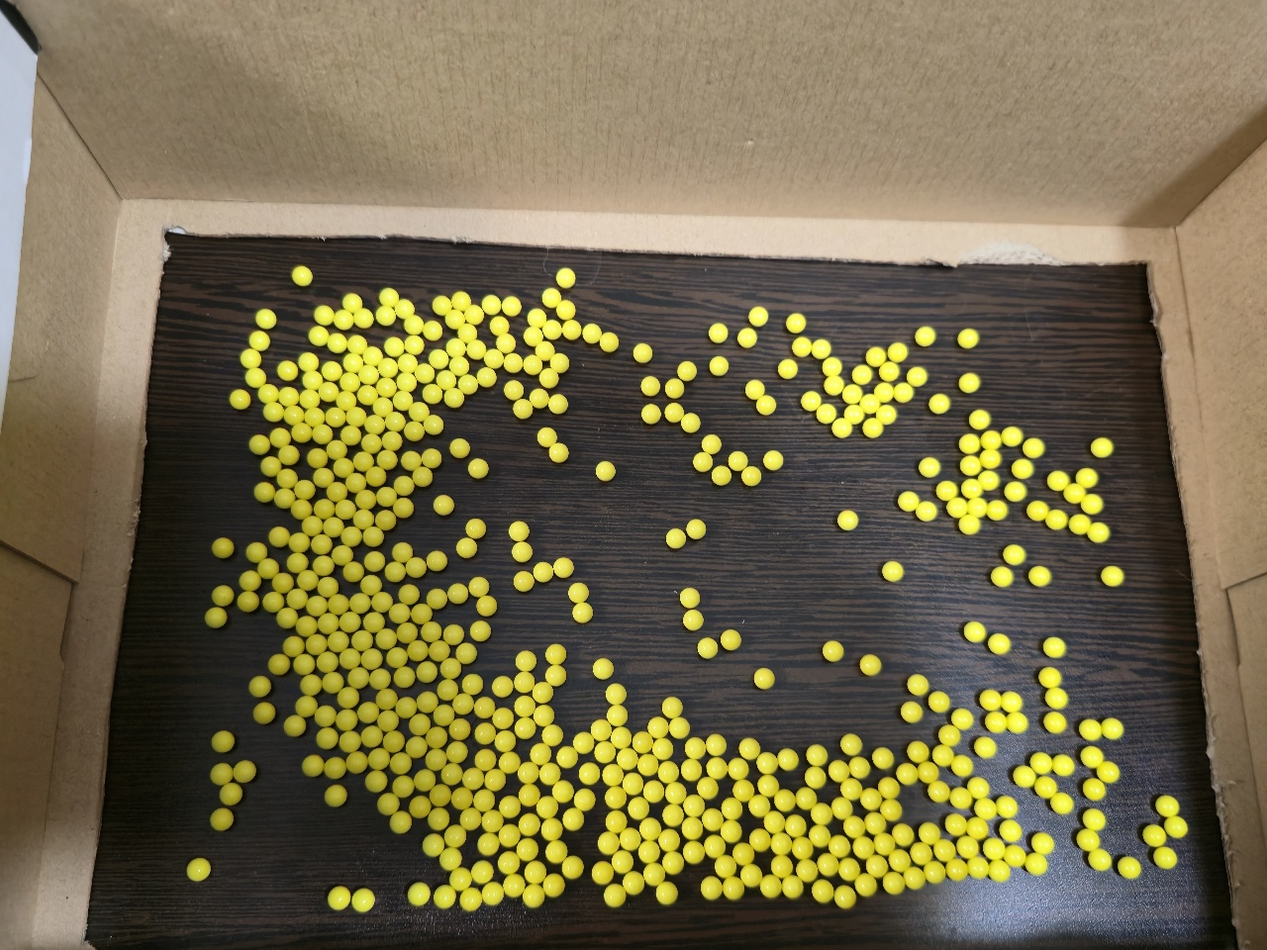yellow_bead: (865, 387, 888, 409), (837, 410, 859, 432), (979, 741, 992, 754), (413, 888, 425, 901), (192, 864, 205, 876), (1036, 837, 1049, 849), (1086, 751, 1099, 763), (1049, 716, 1061, 729), (956, 713, 969, 725), (1050, 693, 1063, 705), (487, 888, 499, 900), (444, 853, 456, 865), (988, 842, 1000, 854), (1084, 724, 1096, 736), (1005, 824, 1016, 837), (1088, 813, 1101, 824), (1048, 642, 1061, 653), (993, 638, 1006, 649), (1033, 571, 1046, 582), (334, 892, 345, 904), (1031, 858, 1042, 870), (428, 839, 439, 851), (1002, 801, 1013, 813), (688, 800, 700, 811), (955, 793, 966, 805), (973, 782, 985, 793), (1019, 771, 1030, 783), (584, 768, 595, 780), (663, 766, 674, 778), (957, 760, 968, 772), (877, 753, 889, 764), (622, 753, 633, 765), (744, 743, 755, 755), (657, 743, 668, 755), (690, 742, 701, 754), (990, 716, 1001, 728), (933, 697, 945, 708), (1044, 672, 1056, 683), (969, 626, 981, 637), (1009, 549, 1021, 560), (983, 475, 995, 486), (477, 866, 487, 879), (1161, 801, 1174, 811), (1056, 799, 1069, 809), (996, 572, 1009, 582), (439, 891, 450, 902), (643, 847, 654, 858), (834, 840, 845, 851), (449, 830, 460, 841), (644, 823, 655, 834), (836, 803, 847, 814), (670, 788, 681, 799), (937, 750, 948, 761), (812, 750, 823, 761), (600, 747, 611, 758), (845, 739, 856, 750), (578, 737, 589, 748), (520, 722, 531, 733), (612, 710, 623, 721), (520, 701, 531, 712), (611, 689, 622, 700), (497, 681, 508, 692), (913, 680, 924, 691), (467, 679, 478, 690), (888, 566, 899, 577), (921, 506, 932, 517), (1087, 499, 1098, 510), (965, 460, 976, 471), (912, 371, 923, 382), (661, 887, 671, 899), (617, 856, 627, 868), (603, 837, 613, 849), (524, 819, 536, 829), (668, 809, 678, 821), (479, 795, 489, 807), (648, 786, 658, 798), (544, 768, 554, 780), (833, 765, 843, 777), (855, 762, 865, 774), (762, 757, 772, 769), (712, 739, 722, 751), (944, 730, 954, 742), (906, 707, 918, 717), (1107, 571, 1119, 581), (1093, 527, 1105, 537), (1010, 487, 1022, 497), (941, 486, 953, 496), (1052, 476, 1064, 486), (1081, 473, 1093, 483), (1027, 443, 1039, 453), (1096, 442, 1108, 452), (974, 415, 986, 425), (409, 318, 419, 330), (509, 882, 520, 892), (888, 878, 898, 889), (455, 875, 465, 886), (939, 845, 949, 856), (962, 842, 973, 852), (625, 834, 635, 845), (950, 819, 960, 830), (769, 816, 779, 827), (490, 775, 500, 786), (608, 769, 618, 780), (446, 769, 457, 779), (523, 767, 533, 778), (1060, 760, 1070, 771), (547, 730, 557, 741), (596, 725, 607, 735), (1109, 723, 1119, 734), (674, 722, 684, 733), (653, 722, 663, 733), (320, 711, 331, 721), (422, 697, 433, 707), (537, 687, 547, 698), (759, 673, 769, 684), (550, 670, 560, 681), (865, 660, 876, 670), (322, 657, 333, 667), (366, 654, 377, 664), (903, 497, 914, 507), (1017, 464, 1028, 474), (924, 462, 935, 472), (964, 438, 974, 449), (1007, 431, 1018, 441), (881, 410, 892, 420), (934, 399, 945, 409), (806, 396, 817, 406), (398, 395, 408, 406), (847, 389, 858, 399), (829, 379, 839, 390), (964, 378, 975, 388), (857, 370, 868, 380), (884, 367, 895, 377), (304, 357, 314, 368), (893, 347, 904, 357), (254, 335, 265, 345), (963, 333, 974, 343), (381, 310, 391, 321), (357, 894, 369, 903), (609, 889, 618, 901), (628, 877, 637, 889), (1123, 862, 1132, 874), (503, 857, 512, 869), (483, 838, 492, 850), (897, 829, 906, 841), (634, 802, 643, 814), (686, 764, 695, 776), (712, 762, 721, 774), (562, 751, 571, 763), (536, 748, 545, 760), (1009, 697, 1018, 709), (964, 520, 976, 529), (400, 304, 409, 316), (706, 882, 714, 895), (996, 867, 1006, 877), (753, 801, 763, 811), (500, 736, 510, 746), (498, 713, 508, 723), (458, 699, 468, 709), (375, 674, 385, 684), (353, 673, 363, 683), (598, 664, 608, 674), (445, 663, 455, 673), (299, 659, 309, 669), (521, 656, 531, 666), (461, 648, 471, 658), (828, 646, 838, 656), (703, 643, 713, 653), (333, 636, 343, 646), (357, 635, 367, 645), (475, 625, 485, 635), (688, 615, 698, 625), (578, 608, 588, 618), (482, 601, 492, 611), (292, 594, 302, 604), (685, 593, 695, 603), (573, 588, 583, 598), (323, 582, 333, 592), (538, 567, 548, 577), (517, 547, 527, 557), (514, 526, 524, 536), (952, 503, 962, 513), (746, 471, 756, 481), (768, 455, 778, 465), (428, 389, 438, 399), (899, 388, 909, 398), (324, 387, 334, 397), (441, 375, 451, 385), (250, 373, 260, 383), (420, 368, 430, 378), (327, 366, 337, 376), (783, 364, 793, 374), (871, 352, 881, 362), (817, 344, 827, 354), (797, 341, 807, 351), (261, 314, 271, 324), (347, 298, 357, 308), (297, 271, 307, 281), (465, 895, 476, 904), (839, 891, 848, 902), (528, 891, 537, 902), (396, 816, 405, 827), (980, 806, 991, 815), (468, 774, 477, 785), (810, 772, 819, 783), (1035, 757, 1046, 766), (411, 742, 422, 751), (344, 736, 355, 745), (616, 732, 625, 743), (538, 710, 547, 721), (520, 677, 529, 688), (842, 516, 853, 525), (1032, 506, 1043, 515), (994, 505, 1003, 516), (966, 484, 977, 493), (986, 455, 997, 464), (363, 370, 374, 379), (828, 362, 837, 373), (454, 360, 463, 371), (451, 343, 460, 354), (817, 886, 825, 898), (530, 866, 538, 878), (1094, 854, 1102, 866), (1170, 822, 1182, 830), (702, 782, 710, 794), (902, 768, 910, 780), (1015, 716, 1023, 728), (1160, 854, 1170, 863), (465, 814, 474, 824), (541, 802, 550, 812), (504, 802, 514, 811), (384, 799, 394, 808), (779, 796, 788, 806), (239, 767, 249, 776), (642, 760, 651, 770), (504, 758, 513, 768), (323, 733, 333, 742), (667, 703, 677, 712), (442, 685, 451, 695), (328, 678, 338, 687), (401, 672, 410, 682), (422, 667, 432, 676), (381, 634, 391, 643), (448, 630, 458, 639), (427, 627, 437, 636), (312, 601, 321, 611), (355, 599, 365, 608), (377, 598, 387, 607), (432, 594, 441, 604), (474, 582, 483, 592), (366, 580, 376, 589), (390, 567, 400, 576), (558, 563, 567, 573), (411, 563, 421, 572), (319, 561, 329, 570), (369, 557, 379, 566), (461, 543, 471, 552), (671, 533, 680, 543), (692, 524, 701, 534), (1051, 515, 1061, 524), (717, 471, 727, 480), (601, 466, 610, 476), (698, 457, 708, 466), (733, 456, 742, 466), (707, 439, 716, 449), (868, 423, 878, 432), (390, 417, 400, 426), (822, 409, 831, 419), (414, 407, 424, 416), (519, 404, 528, 414), (761, 401, 771, 410), (305, 394, 315, 403), (362, 390, 372, 399), (263, 389, 273, 398), (509, 386, 519, 395), (750, 385, 759, 395), (402, 377, 411, 387), (308, 375, 318, 384), (544, 373, 553, 383), (482, 372, 491, 382), (683, 366, 692, 376), (383, 363, 393, 372), (403, 359, 413, 368), (348, 358, 358, 367), (489, 354, 499, 363), (434, 354, 443, 364), (245, 354, 255, 363), (472, 344, 481, 354), (389, 342, 399, 351), (742, 333, 752, 342), (529, 331, 538, 341), (566, 325, 576, 334), (547, 325, 557, 334), (495, 322, 504, 332), (791, 319, 801, 328), (339, 315, 348, 325), (754, 312, 763, 322), (320, 311, 330, 320), (561, 305, 570, 315), (507, 301, 516, 311), (487, 300, 496, 310), (456, 297, 466, 306), (547, 293, 556, 303), (384, 293, 394, 302), (561, 273, 570, 283), (860, 880, 868, 891), (745, 871, 753, 882), (648, 869, 656, 880), (776, 838, 784, 849), (924, 827, 932, 838), (848, 821, 856, 832), (707, 814, 715, 825), (865, 795, 873, 806), (763, 781, 771, 792), (783, 754, 791, 765), (344, 654, 355, 662), (727, 634, 735, 645), (394, 609, 405, 617), (502, 337, 510, 348), (975, 861, 982, 873), (567, 861, 574, 873), (710, 841, 717, 853), (871, 817, 878, 829), (568, 813, 575, 825), (579, 794, 586, 806), (628, 778, 635, 790), (910, 875, 919, 884), (504, 830, 513, 839), (332, 791, 341, 800), (290, 720, 299, 729), (415, 719, 424, 728), (363, 708, 372, 717), (479, 703, 488, 712), (312, 639, 321, 648), (219, 591, 228, 600), (453, 589, 462, 598), (519, 577, 528, 586), (293, 558, 302, 567), (432, 556, 441, 565), (338, 550, 347, 559), (471, 524, 480, 533), (399, 481, 408, 490), (418, 472, 427, 481), (473, 464, 482, 473), (407, 456, 416, 465), (554, 448, 563, 457), (455, 443, 464, 452), (542, 432, 551, 441), (346, 430, 355, 439), (318, 429, 327, 438), (429, 420, 438, 429), (686, 419, 695, 428), (646, 410, 655, 419), (269, 408, 278, 417), (553, 400, 562, 409), (449, 393, 458, 402), (284, 392, 293, 401), (670, 384, 679, 393), (463, 380, 472, 389), (715, 361, 724, 370), (555, 358, 564, 367), (509, 358, 518, 367), (368, 351, 377, 360), (638, 348, 647, 357), (540, 346, 549, 355), (410, 340, 419, 349), (605, 337, 614, 346), (921, 332, 930, 341), (450, 315, 459, 324), (359, 314, 368, 323), (871, 862, 879, 872), (667, 857, 675, 867), (688, 848, 696, 858), (858, 844, 866, 854), (814, 831, 822, 841), (816, 808, 824, 818), (557, 786, 565, 796), (400, 782, 408, 792), (372, 776, 380, 786), (431, 755, 441, 763), (480, 728, 488, 738), (383, 715, 393, 723), (985, 695, 995, 703), (343, 693, 353, 701), (307, 680, 315, 690), (392, 652, 402, 660), (435, 646, 443, 656), (346, 531, 356, 539), (974, 503, 982, 513), (300, 485, 310, 493), (282, 474, 292, 482), (358, 457, 368, 465), (275, 433, 285, 441), (409, 427, 419, 435), (370, 420, 380, 428), (670, 408, 678, 418), (378, 403, 388, 411), (341, 396, 351, 404), (381, 383, 391, 391), (646, 381, 654, 391), (345, 378, 355, 386), (352, 340, 362, 348), (314, 332, 324, 340), (533, 314, 541, 324), (470, 310, 478, 320), (802, 866, 809, 877), (522, 845, 529, 856), (687, 822, 694, 833), (846, 784, 853, 795), (1074, 520, 1085, 527), (844, 863, 850, 875), (720, 863, 728, 872), (895, 857, 903, 866), (916, 850, 924, 859), (664, 834, 670, 846), (1150, 830, 1159, 838), (933, 787, 942, 795), (218, 769, 226, 778), (480, 755, 488, 764), (451, 747, 460, 755), (367, 731, 376, 739), (323, 618, 332, 626), (268, 597, 277, 605), (398, 548, 406, 557), (294, 538, 303, 546), (341, 505, 350, 513), (399, 504, 408, 512), (439, 501, 447, 510), (280, 494, 289, 502), (382, 492, 391, 500), (351, 478, 359, 487), (319, 473, 328, 481), (427, 454, 436, 462), (332, 445, 341, 453), (387, 436, 396, 444), (988, 435, 996, 444), (351, 413, 360, 421), (331, 413, 340, 421), (289, 411, 297, 420), (236, 395, 244, 404), (535, 394, 543, 403), (529, 360, 537, 369), (333, 338, 341, 347), (714, 329, 723, 337), (588, 329, 596, 338), (463, 329, 471, 338), (438, 301, 446, 310), (765, 882, 772, 892), (550, 847, 557, 857), (1085, 835, 1092, 845), (726, 826, 733, 836), (546, 824, 553, 834), (487, 816, 494, 826), (396, 758, 406, 765), (369, 618, 379, 625), (345, 617, 355, 624), (404, 590, 414, 597), (368, 532, 378, 539), (358, 515, 368, 522), (791, 820, 797, 831), (434, 813, 440, 824), (727, 803, 733, 814), (802, 793, 808, 804), (309, 761, 317, 769), (220, 736, 228, 744), (401, 703, 409, 711), (256, 682, 264, 690), (283, 613, 291, 621), (274, 532, 282, 540), (339, 463, 347, 471), (284, 450, 292, 458), (227, 789, 236, 796), (637, 737, 644, 746), (439, 710, 448, 717), (302, 702, 311, 709), (418, 609, 427, 616), (303, 576, 312, 583), (317, 539, 326, 546), (329, 522, 338, 529), (332, 487, 341, 494), (266, 462, 275, 469), (382, 455, 391, 462), (367, 439, 376, 446), (788, 882, 794, 892), (548, 882, 554, 892), (597, 869, 603, 879), (824, 859, 829, 871), (610, 793, 616, 803), (880, 841, 887, 849), (376, 754, 383, 762), (913, 746, 920, 754), (455, 724, 463, 731), (245, 576, 253, 583), (361, 495, 369, 502), (1069, 489, 1080, 494), (931, 870, 937, 879), (218, 814, 227, 820), (212, 613, 221, 619), (252, 548, 261, 554), (310, 413, 319, 419), (737, 849, 744, 856), (331, 764, 338, 771), (260, 488, 267, 495), (255, 440, 262, 447), (754, 835, 760, 843), (611, 817, 617, 825), (524, 791, 530, 799), (420, 775, 428, 781), (341, 714, 349, 720), (334, 600, 342, 606), (349, 567, 357, 573), (308, 522, 316, 528), (738, 787, 744, 794), (382, 695, 389, 701), (554, 649, 560, 656), (405, 628, 412, 634), (729, 885, 734, 893), (885, 783, 890, 791), (1044, 782, 1049, 790), (302, 621, 310, 626), (381, 516, 389, 521), (776, 863, 782, 869), (416, 645, 422, 651), (290, 642, 296, 648), (352, 758, 359, 763), (260, 709, 267, 714), (244, 597, 251, 602), (297, 505, 304, 510), (275, 660, 283, 664), (264, 564, 272, 568), (297, 428, 305, 432), (1108, 768, 1113, 774), (1013, 855, 1020, 859), (389, 737, 396, 741), (372, 472, 379, 476), (798, 846, 803, 851), (886, 807, 892, 811), (219, 543, 225, 547), (314, 453, 320, 457), (280, 579, 287, 582), (1093, 788, 1098, 792), (736, 763, 741, 767), (436, 732, 440, 737), (322, 505, 328, 507), (975, 825, 978, 828), (926, 770, 929, 773), (429, 326, 432, 329), (460, 796, 464, 798), (954, 868, 957, 870), (419, 804, 421, 807), (283, 366, 285, 368), (439, 793, 442, 794), (358, 904, 359, 905)
